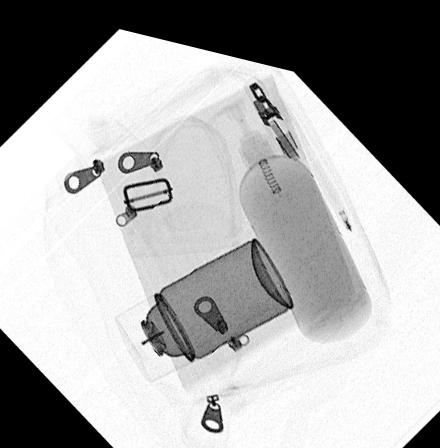Sprayer: (110, 222, 294, 376)
